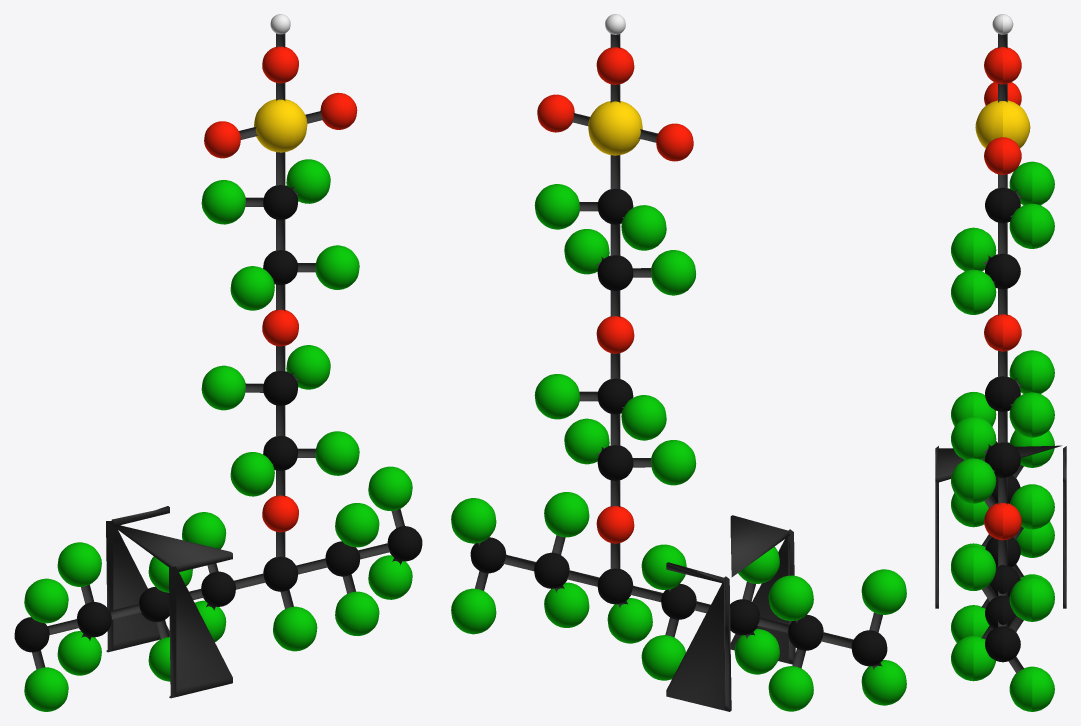
The model's file is nafion_monomer_cpk.glb.
The picture shows the model from 3 angles, left to right: view 1: azimuth 30°, elevation 25°; view 2: azimuth 150°, elevation 25°; view 3: azimuth 270°, elevation 25°; orthographic projection. The views are drawn at different scales.
Parts seen in each view (by area): view 1: NafionMonomerCPK; view 2: NafionMonomerCPK; view 3: NafionMonomerCPK.
Part boxes in pixels (<box>): NafionMonomerCPK: <box>14,14,422,711</box>; NafionMonomerCPK: <box>451,14,906,711</box>; NafionMonomerCPK: <box>935,14,1066,711</box>.
Size of the model in its own units: 10.2 by 14.78 by 2.78.
